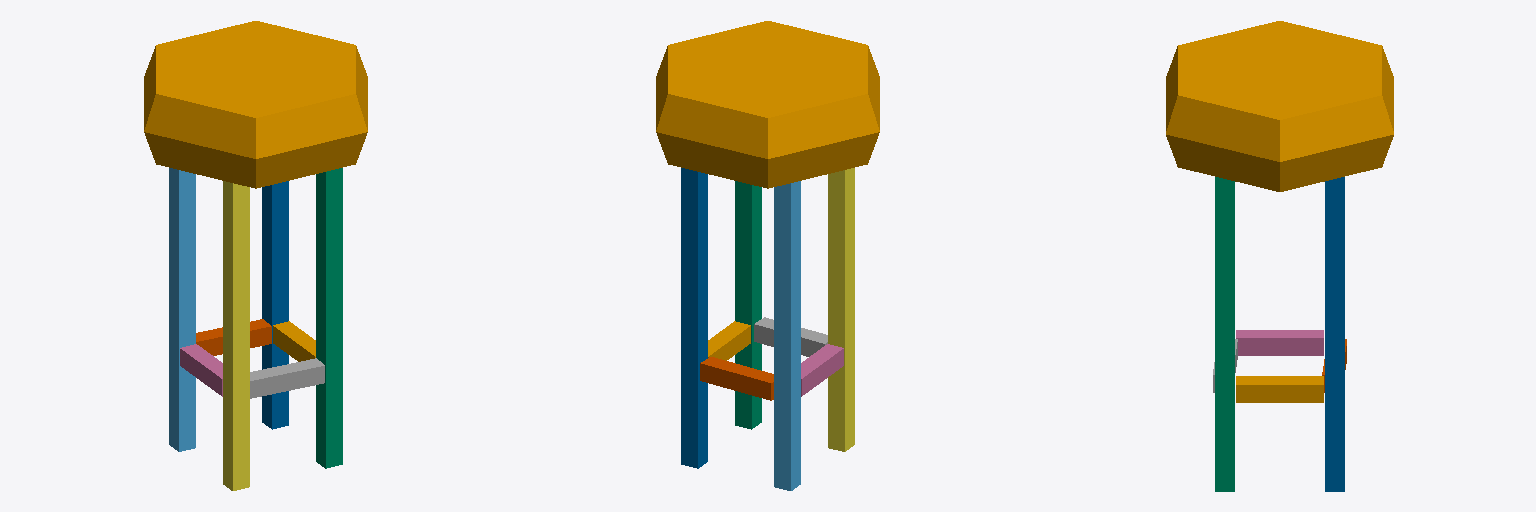
robot.urdf — tall_chair:
<?xml version="1.0"?>
<robot name="tall_chair">
  <link name="pillow">
    <inertial>
        <origin rpy="0 0 0" xyz="0 0 0"/>
        <mass value="1.0"/>
        <inertia ixx="4.4e-5" ixy="0" ixz="0" iyy="0" iyz="0" izz="4.4e-5"/>
    </inertial>
    <visual>
      <geometry>
        <mesh filename="pillow.obj"/>
      </geometry>
    </visual>
    <collision>
      <geometry>
        <mesh filename="pillow.obj"/>
      </geometry>
      <surface>
           <bounce restitution_coefficient = "0.1"/>
      </surface>
    </collision>
  </link>
  <link name="leg_1">
    <inertial>
        <origin rpy="0 0 0" xyz="0 0 0"/>
        <mass value="0.1"/>
        <inertia ixx="4.4e-5" ixy="0" ixz="0" iyy="0" iyz="0" izz="4.4e-5"/>
    </inertial>
    <visual>
      <geometry>
        <mesh filename="leg.obj"/>
      </geometry>
    </visual>
    <collision>
      <geometry>
        <mesh filename="leg.obj"/>
      </geometry>
      <surface>
           <bounce restitution_coefficient = "0.1"/>
      </surface>
    </collision>
  </link>
  <link name="leg_2">
    <inertial>
        <origin rpy="0 0 0" xyz="0 0 0"/>
        <mass value="0.1"/>
        <inertia ixx="4.4e-5" ixy="0" ixz="0" iyy="0" iyz="0" izz="4.4e-5"/>
    </inertial>
    <visual>
      <geometry>
        <mesh filename="leg.obj"/>
      </geometry>
    </visual>
    <collision>
      <geometry>
        <mesh filename="leg.obj"/>
      </geometry>
      <surface>
           <bounce restitution_coefficient = "0.1"/>
      </surface>
    </collision>
  </link>
  <link name="leg_3">
    <inertial>
        <origin rpy="0 0 0" xyz="0 0 0"/>
        <mass value="0.1"/>
        <inertia ixx="4.4e-5" ixy="0" ixz="0" iyy="0" iyz="0" izz="4.4e-5"/>
    </inertial>
    <visual>
      <geometry>
        <mesh filename="leg.obj"/>
      </geometry>
    </visual>
    <collision>
      <geometry>
        <mesh filename="leg.obj"/>
      </geometry>
      <surface>
           <bounce restitution_coefficient = "0.1"/>
      </surface>
    </collision>
  </link>
  <link name="leg_4">
    <inertial>
        <origin rpy="0 0 0" xyz="0 0 0"/>
        <mass value="0.1"/>
        <inertia ixx="4.4e-5" ixy="0" ixz="0" iyy="0" iyz="0" izz="4.4e-5"/>
    </inertial>
    <visual>
      <geometry>
        <mesh filename="leg.obj"/>
      </geometry>
    </visual>
    <collision>
      <geometry>
        <mesh filename="leg.obj"/>
      </geometry>
      <surface>
           <bounce restitution_coefficient = "0.1"/>
      </surface>
    </collision>
  </link>
  <link name="strut_1">
    <inertial>
        <origin rpy="0 0 0" xyz="0 0 0"/>
        <mass value="0.1"/>
        <inertia ixx="4.4e-5" ixy="0" ixz="0" iyy="0" iyz="0" izz="4.4e-5"/>
    </inertial>
    <visual>
      <geometry>
        <mesh filename="strut.obj"/>
      </geometry>
    </visual>
    <collision>
      <geometry>
        <mesh filename="strut.obj"/>
      </geometry>
      <surface>
           <bounce restitution_coefficient = "0.1"/>
      </surface>
    </collision>
  </link>
  <link name="strut_2">
    <inertial>
        <origin rpy="0 0 0" xyz="0 0 0"/>
        <mass value="0.1"/>
        <inertia ixx="4.4e-5" ixy="0" ixz="0" iyy="0" iyz="0" izz="4.4e-5"/>
    </inertial>
    <visual>
      <geometry>
        <mesh filename="strut.obj"/>
      </geometry>
    </visual>
    <collision>
      <geometry>
        <mesh filename="strut.obj"/>
      </geometry>
      <surface>
           <bounce restitution_coefficient = "0.1"/>
      </surface>
    </collision>
  </link>
  <link name="strut_3">
    <inertial>
        <origin rpy="0 0 0" xyz="0 0 0"/>
        <mass value="0.1"/>
        <inertia ixx="4.4e-5" ixy="0" ixz="0" iyy="0" iyz="0" izz="4.4e-5"/>
    </inertial>
    <visual>
      <geometry>
        <mesh filename="strut.obj"/>
      </geometry>
    </visual>
    <collision>
      <geometry>
        <mesh filename="strut.obj"/>
      </geometry>
      <surface>
           <bounce restitution_coefficient = "0.1"/>
      </surface>
    </collision>
  </link>
  <link name="strut_4">
    <inertial>
        <origin rpy="0 0 0" xyz="0 0 0"/>
        <mass value="0.1"/>
        <inertia ixx="4.4e-5" ixy="0" ixz="0" iyy="0" iyz="0" izz="4.4e-5"/>
    </inertial>
    <visual>
      <geometry>
        <mesh filename="strut.obj"/>
      </geometry>
    </visual>
    <collision>
      <geometry>
        <mesh filename="strut.obj"/>
      </geometry>
      <surface>
           <bounce restitution_coefficient = "0.1"/>
      </surface>
    </collision>
  </link>
  <joint name="pillow_to_leg_1" type="fixed">
    <parent link="pillow"/>
    <child link="leg_1"/>
    <origin rpy="0 0 0" xyz="-0.055 0.055 -0.219"/>
  </joint>
  <joint name="pillow_to_leg_2" type="fixed">
    <parent link="pillow"/>
    <child link="leg_2"/>
    <origin rpy="0 0 0" xyz="0.055 -0.055 -0.219"/>
  </joint>
  <joint name="pillow_to_leg_3" type="fixed">
    <parent link="pillow"/>
    <child link="leg_3"/>
    <origin rpy="0 0 0" xyz="-0.055 -0.055 -0.219"/>
  </joint>
  <joint name="pillow_to_leg_4" type="fixed">
    <parent link="pillow"/>
    <child link="leg_4"/>
    <origin rpy="0 0 0" xyz="0.055 0.055 -0.219"/>
  </joint>
  <joint name="pillow_to_strut_1" type="fixed">
    <parent link="pillow"/>
    <child link="strut_1"/>
    <origin rpy="0 0 1.507" xyz="0 0.055 -0.288"/>
  </joint>
  <joint name="pillow_to_strut_2" type="fixed">
    <parent link="pillow"/>
    <child link="strut_2"/>
    <origin rpy="0 0 0" xyz="-0.055 0 -0.288"/>
  </joint>
  <joint name="pillow_to_strut_3" type="fixed">
    <parent link="pillow"/>
    <child link="strut_3"/>
    <origin rpy="0 0 1.507" xyz="0 -0.055 -0.288"/>
  </joint>
  <joint name="pillow_to_strut_4" type="fixed">
    <parent link="pillow"/>
    <child link="strut_4"/>
    <origin rpy="0 0 0" xyz="0.055 0 -0.288"/>
  </joint>
</robot>

--- Render facts (derived) ---
Views: 3 orthographic renders of the robot side by side, from view 1: azimuth 30°, elevation 25°; view 2: azimuth 150°, elevation 25°; view 3: azimuth 270°, elevation 25°.
Model tall_chair with 9 links and 8 joints (8 fixed), rooted at pillow, posed every joint at zero.
Visible links, largest first — view 1: pillow, leg_3, leg_2, leg_1, leg_4, strut_3, strut_2, strut_4, strut_1; view 2: pillow, leg_1, leg_4, leg_3, leg_2, strut_1, strut_2, strut_4, strut_3; view 3: pillow, leg_2, leg_4, strut_4, strut_2.
Boxes of the visible links, bbox=[...] form: pillow: bbox=[144, 21, 367, 188]; leg_3: bbox=[223, 181, 249, 490]; leg_2: bbox=[316, 168, 342, 468]; leg_1: bbox=[169, 168, 195, 451]; leg_4: bbox=[262, 181, 288, 429]; strut_3: bbox=[250, 358, 324, 398]; strut_2: bbox=[180, 344, 222, 396]; strut_4: bbox=[273, 321, 315, 361]; strut_1: bbox=[196, 319, 271, 355]; pillow: bbox=[656, 21, 879, 188]; leg_1: bbox=[774, 181, 800, 490]; leg_4: bbox=[681, 168, 707, 468]; leg_3: bbox=[828, 168, 854, 451]; leg_2: bbox=[735, 181, 761, 429]; strut_1: bbox=[700, 357, 773, 400]; strut_2: bbox=[801, 344, 843, 396]; strut_4: bbox=[708, 321, 750, 360]; strut_3: bbox=[754, 317, 827, 356]; pillow: bbox=[1166, 21, 1393, 191]; leg_2: bbox=[1215, 177, 1234, 491]; leg_4: bbox=[1325, 177, 1344, 491]; strut_4: bbox=[1236, 376, 1323, 402]; strut_2: bbox=[1236, 330, 1323, 355].
Size in the robot's own frame: 0.2654 by 0.2299 by 0.4365 metres.
9 mesh visuals loaded from 3 distinct referenced files (3 OBJ).